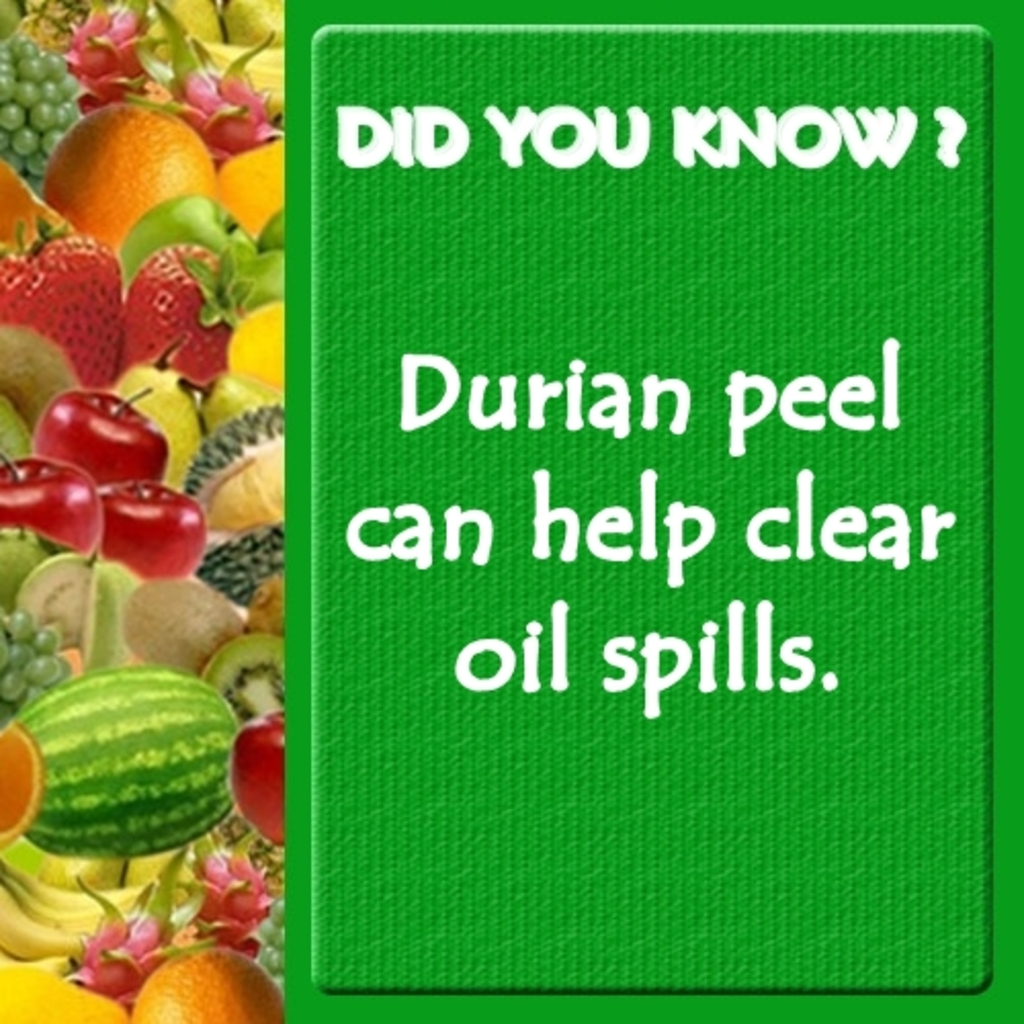Ripe: (37, 84, 242, 223)
